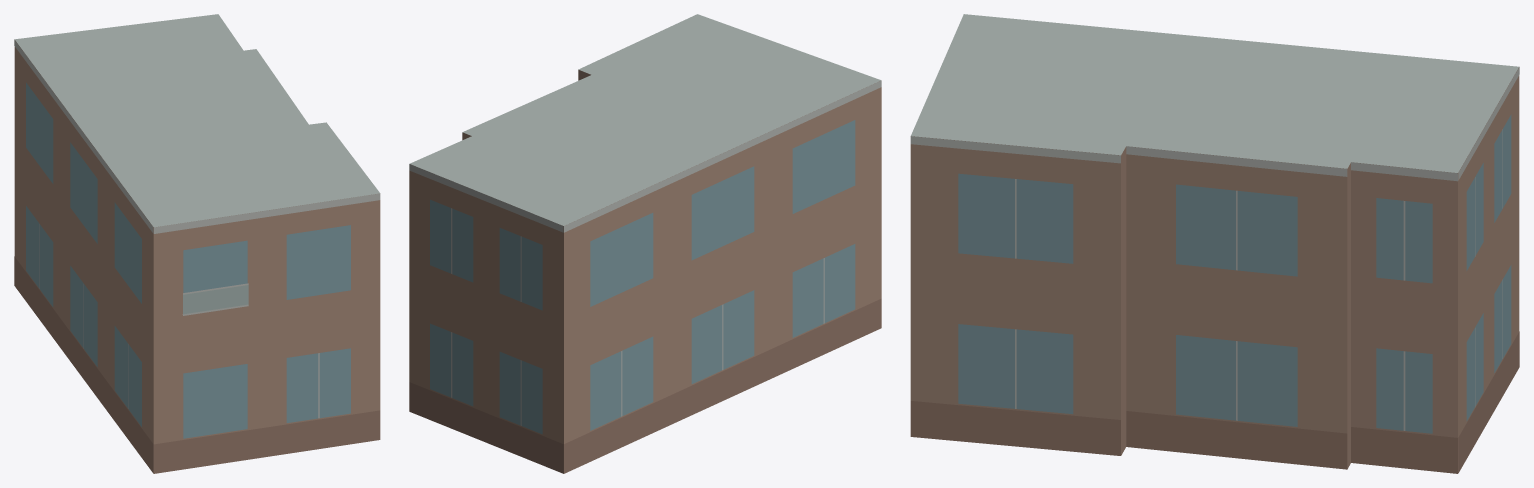
The model's file is survey-upis-32806002.glb.
3 renders of one model, left to right at view 1: azimuth 30°, elevation 25°; view 2: azimuth 150°, elevation 25°; view 3: azimuth 270°, elevation 25°, orthographic. The views are drawn at different scales.
Visible parts, largest first — view 1: survey-upis-32806002.tmp; view 2: survey-upis-32806002.tmp; view 3: survey-upis-32806002.tmp.
Part boxes in pixels (bbox=[...]): survey-upis-32806002.tmp: bbox=[14, 14, 380, 473]; survey-upis-32806002.tmp: bbox=[409, 14, 881, 473]; survey-upis-32806002.tmp: bbox=[910, 14, 1519, 473].
Size of the model in its own units: 10.22 by 9 by 16.52.
